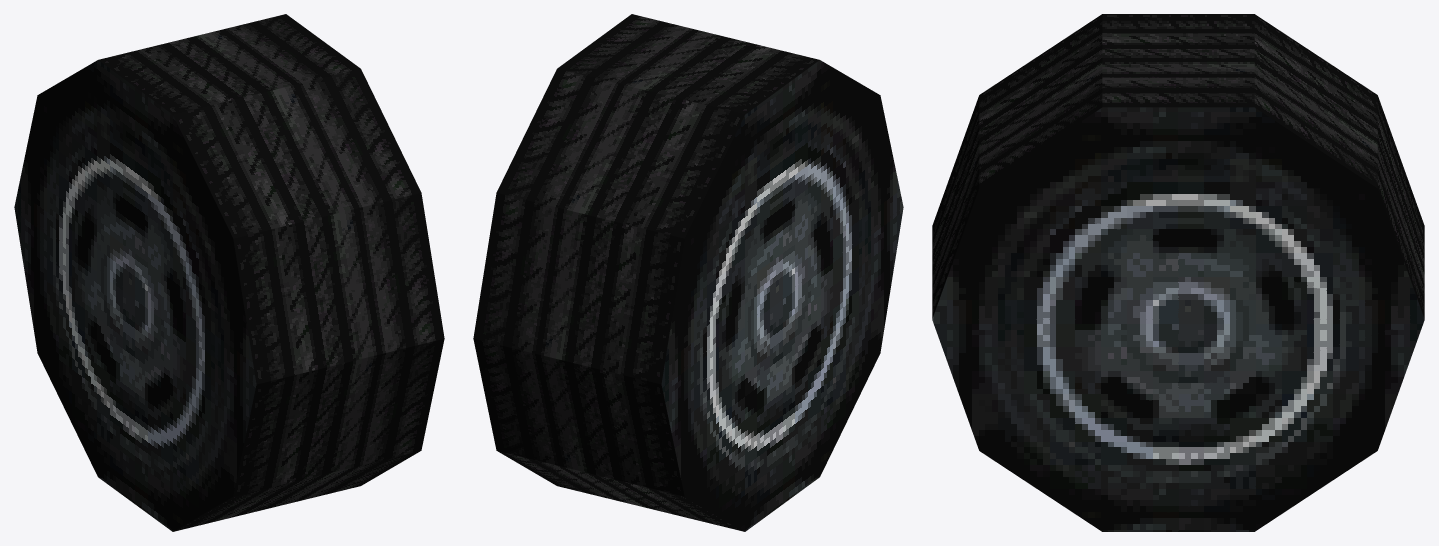
The model's file is SmallCar_Wheel.fbx.
The picture shows the model from 3 angles, left to right: view 1: azimuth 30°, elevation 25°; view 2: azimuth 150°, elevation 25°; view 3: azimuth 270°, elevation 25°; orthographic projection.
Visible parts, largest first — view 1: wheel_smallcar_l1; view 2: wheel_smallcar_l1; view 3: wheel_smallcar_l1.
Boxes of the visible parts, left/top/right/bottom form: wheel_smallcar_l1: left=14, top=14, right=444, bottom=531; wheel_smallcar_l1: left=473, top=14, right=903, bottom=531; wheel_smallcar_l1: left=932, top=14, right=1424, bottom=531.
Bounding box in the file's own units: 45.4 × 96.23 × 101.
2 materials, 2 textured.
